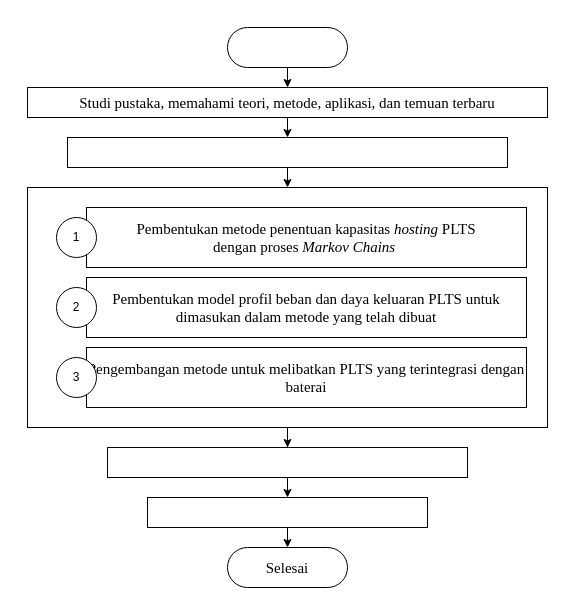
This 574x614 diagram has some shape labels left out. Here are the shapes that lost their labels. From the top down, the centre of each, then its label:
At pixel 287 47: "Mulai".
At pixel 287 152: "Perumusan masalah, kontribusi, tujuan, dan hipotesis".
At pixel 287 462: "Pembahasan hasil".
At pixel 287 512: "Penarikan kesimpulan".
